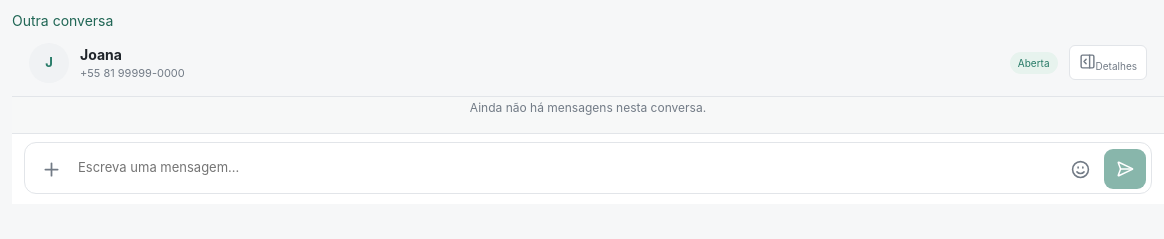
Test: ConversationView › shows an optimistic send and retries with the same clientMessageId
The width and height of the screenshot is (1164, 239).
(page scrolled)
Expected: the heading "Joana" is shown, [80,46,122,62]
In the text box named "Escrever mensagem": (566, 168) [75,147,1056,189], type "Olá"
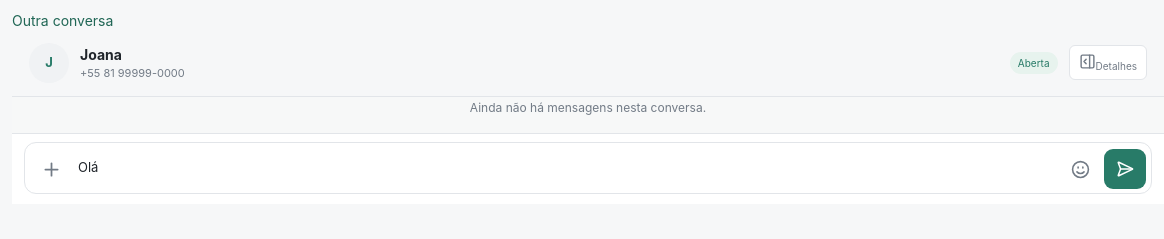
Click the button named "Enviar mensagem": (1125, 169) [1104,149,1146,189]
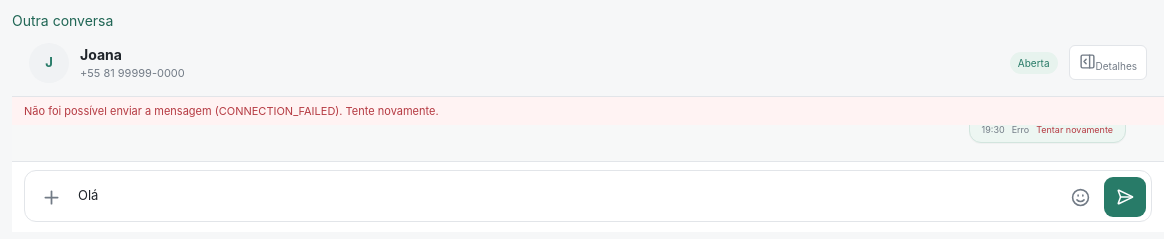
Expected: the text "Erro" is shown, [1012,125,1029,135]
Click the button "Tentar novamente": (1075, 130) [1036,124,1113,135]
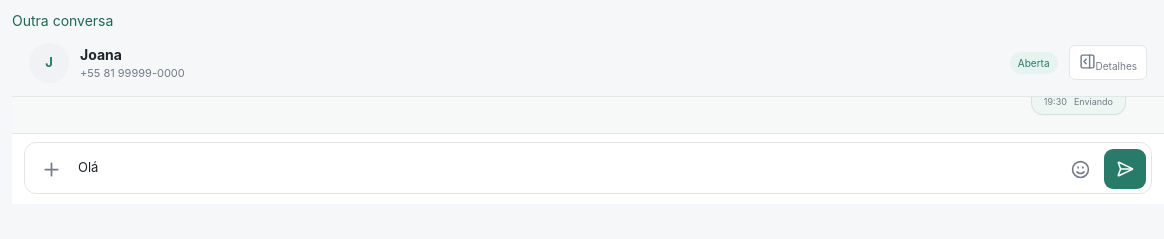
Expected: the button "Tentar novamente" is gone
